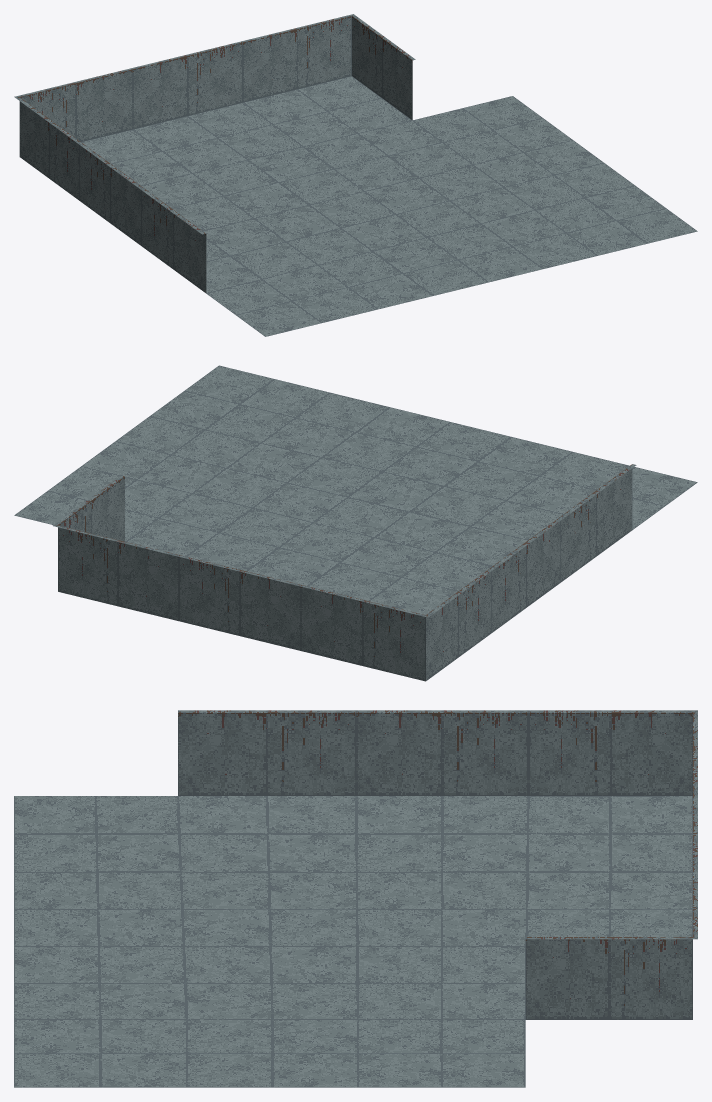
File: arena1_concretewalls.glb
3 renders of one model, top to bottom at view 1: azimuth 30°, elevation 25°; view 2: azimuth 150°, elevation 25°; view 3: azimuth 270°, elevation 25°, orthographic. The views are drawn at different scales.
Parts seen in each view (by area): view 1: concrete_walls; view 2: concrete_walls; view 3: concrete_walls.
Boxes of the visible parts, x1,y1,x2,y2 form: concrete_walls: (14, 14, 697, 336); concrete_walls: (14, 365, 697, 681); concrete_walls: (14, 710, 697, 1087).
Size of the model in its own units: 31.92 by 4.19 by 31.35.
Materials: 1 (1 with a texture image).
